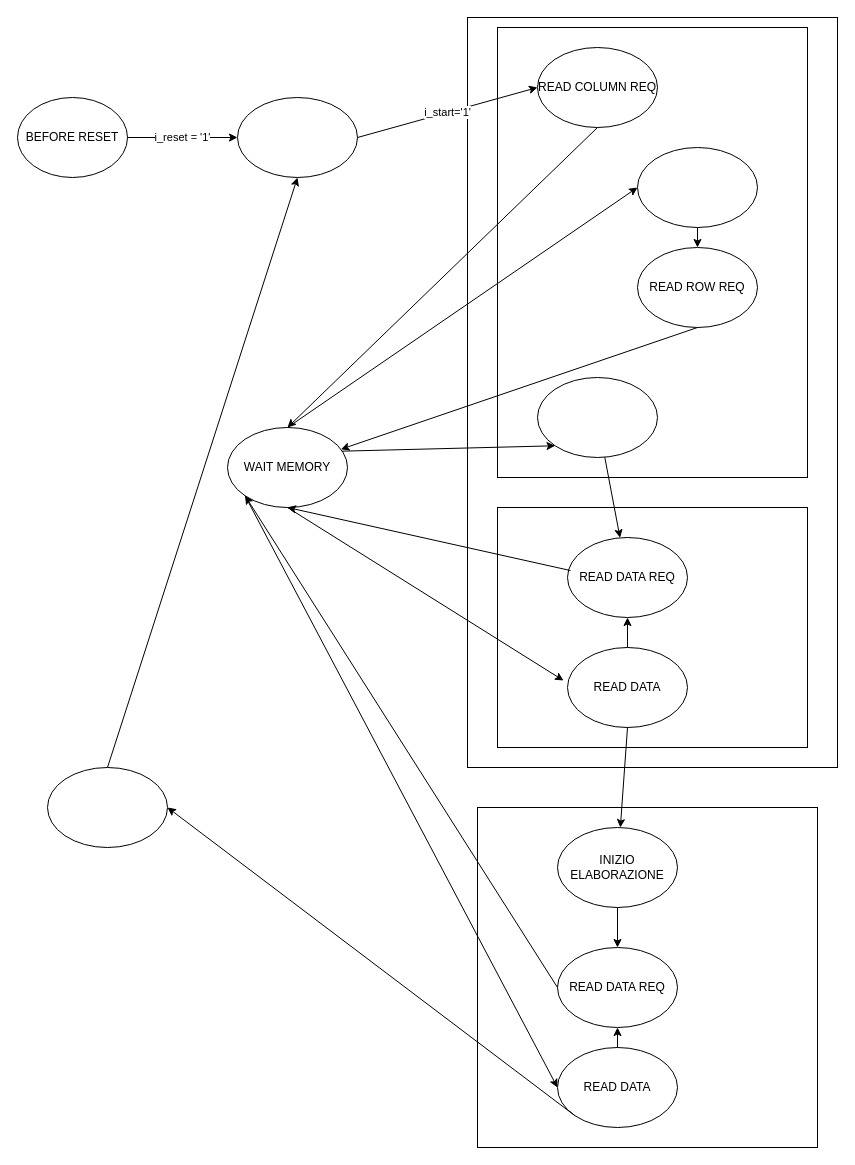
Some shapes in this 855 by 1165 pixel diagram are drawn without their labels. The centre of each missing label's shape, as x and y in pixels:
"BEFORE START" goes at pixel 297 137.
"FINE ELABORAZIONE" goes at pixel 107 807.
"READ COLUMN" goes at pixel 697 187.
"READ ROW" goes at pixel 597 417.
